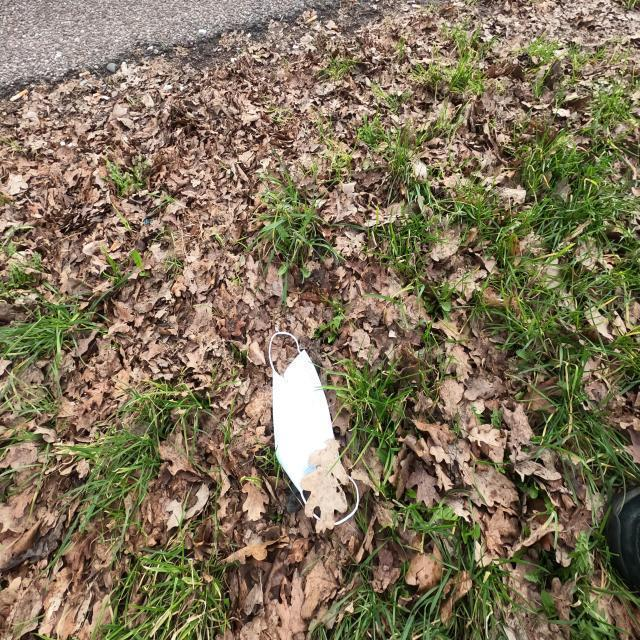Mask: (266, 331, 362, 534)
